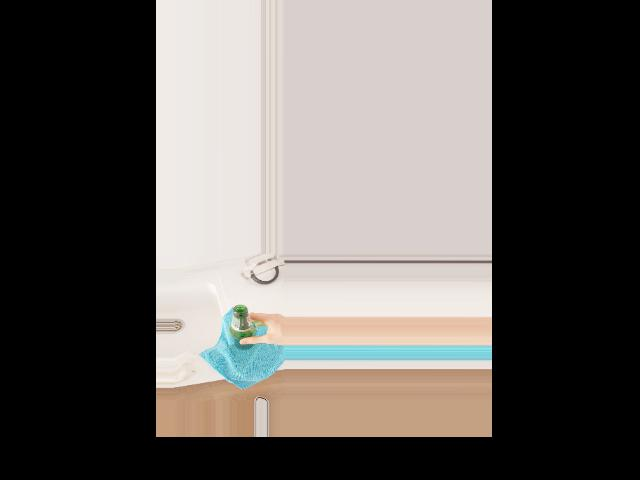beer: (229, 305, 254, 350)
